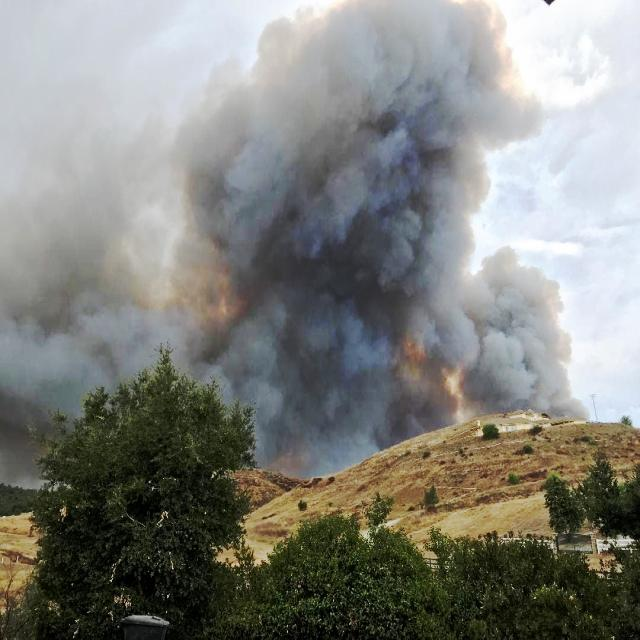asap: (161, 1, 558, 488), (4, 67, 186, 503), (452, 238, 596, 433)
